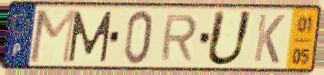0: (122, 8, 156, 67)
K: (252, 12, 287, 66)
M: (27, 7, 79, 65), (66, 10, 114, 64)
R: (158, 13, 200, 63)
U: (203, 8, 256, 68)
